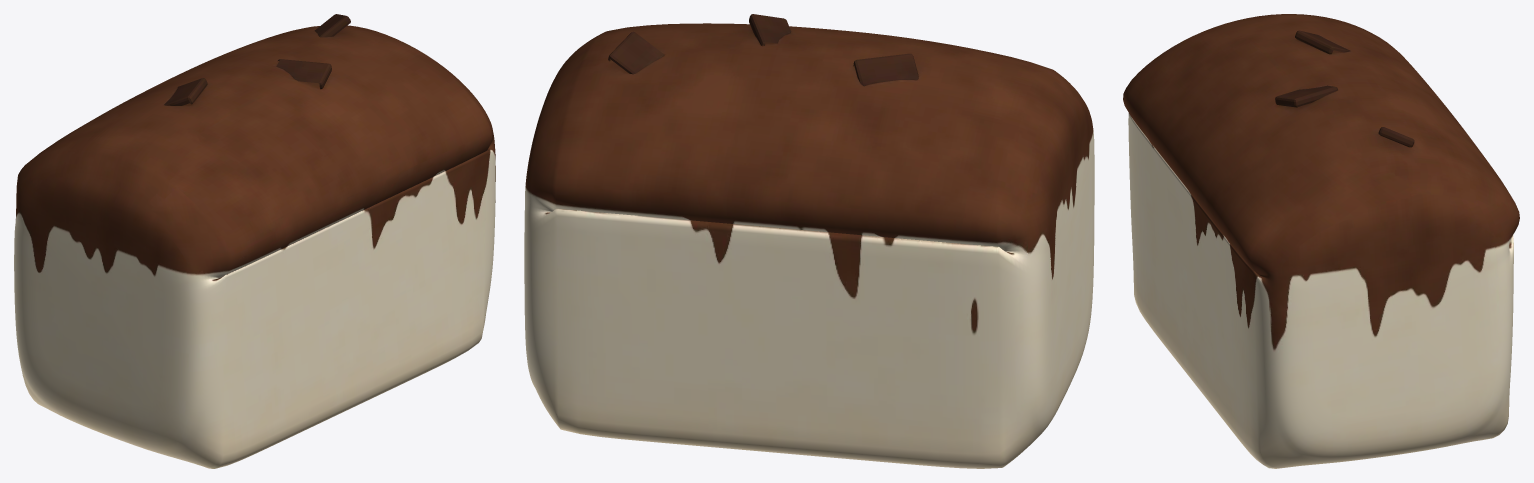
File: loaf--choco-chip.glb
The picture shows the model from 3 angles, left to right: view 1: azimuth 30°, elevation 25°; view 2: azimuth 150°, elevation 25°; view 3: azimuth 270°, elevation 25°; orthographic projection. The views are drawn at different scales.
Parts seen in each view (by area): view 1: loaf_choco-chip; view 2: loaf_choco-chip; view 3: loaf_choco-chip.
Part boxes in pixels (bbox=[...]): loaf_choco-chip: bbox=[14, 14, 495, 468]; loaf_choco-chip: bbox=[524, 14, 1094, 468]; loaf_choco-chip: bbox=[1123, 14, 1519, 468].
Size of the model in its own units: 1.09 by 0.7341 by 0.8491.
Materials: 1 (1 with a texture image).
